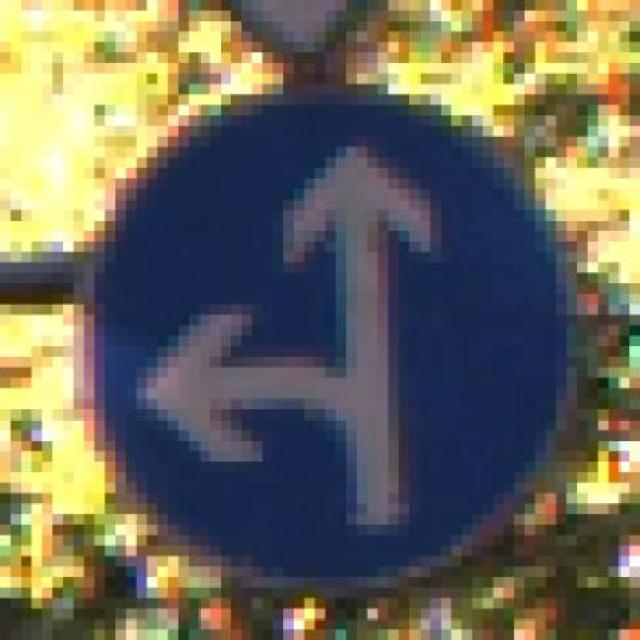Go straight or turn left: (63, 84, 599, 598)
